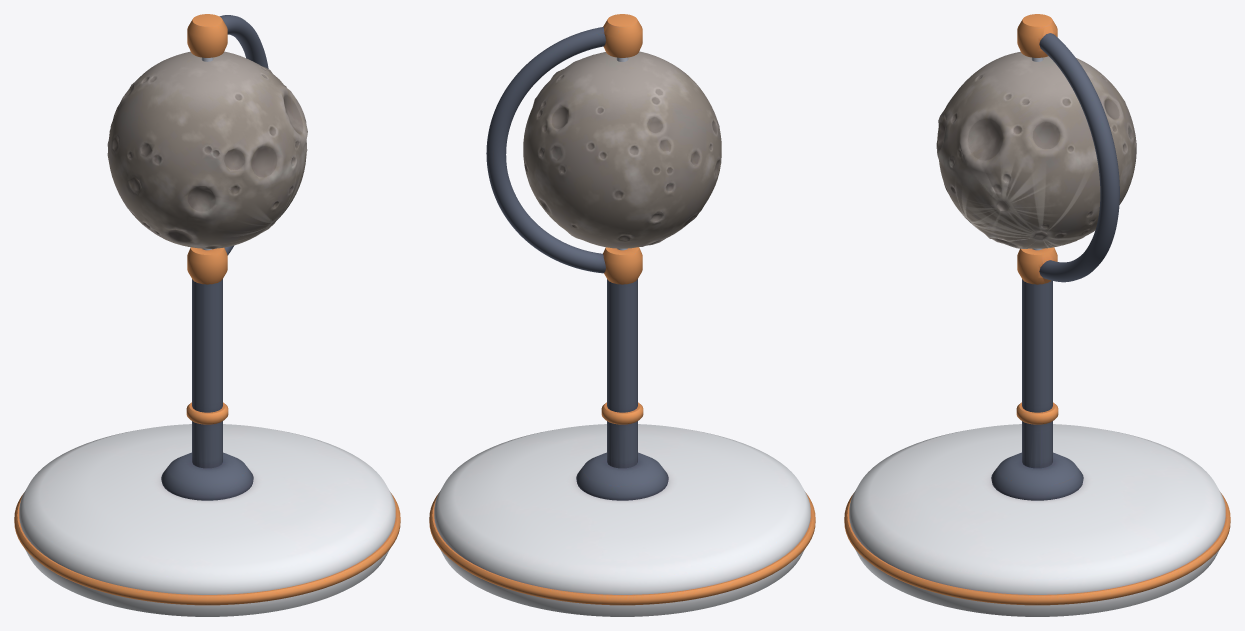
File: mercury-planet.glb
3 views of the same model, side by side, from view 1: azimuth 30°, elevation 25°; view 2: azimuth 150°, elevation 25°; view 3: azimuth 270°, elevation 25° (orthographic).
Parts seen in each view (by area): view 1: mercury-planet_body, mercury-planet_sphere; view 2: mercury-planet_body, mercury-planet_sphere; view 3: mercury-planet_body, mercury-planet_sphere.
Boxes of the visible parts, x1=… form: mercury-planet_body: x1=14, y1=14, x2=400, y2=616; mercury-planet_sphere: x1=107, y1=51, x2=307, y2=249; mercury-planet_body: x1=429, y1=14, x2=815, y2=616; mercury-planet_sphere: x1=523, y1=51, x2=721, y2=248; mercury-planet_body: x1=844, y1=14, x2=1230, y2=616; mercury-planet_sphere: x1=936, y1=51, x2=1136, y2=248.
Bounding box in the file's own units: 0.2256 × 0.3407 × 0.2256.
2 materials, 2 textured.
